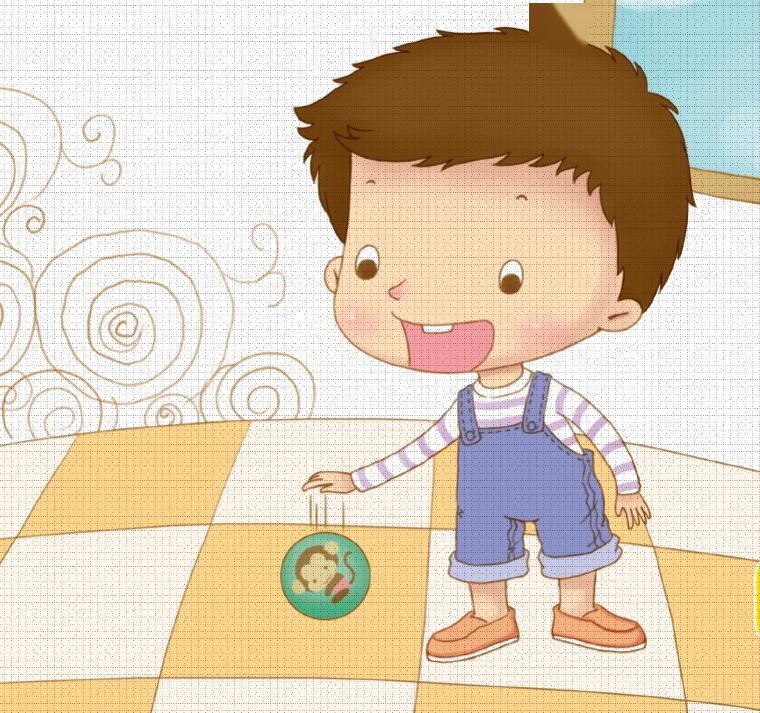ball: (280, 531, 371, 621)
